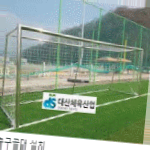goals: (2, 23, 146, 129)
